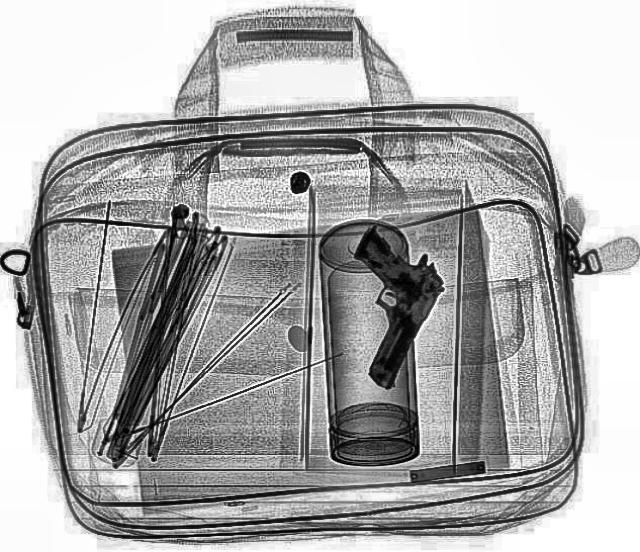Gun: (293, 225, 459, 390)
